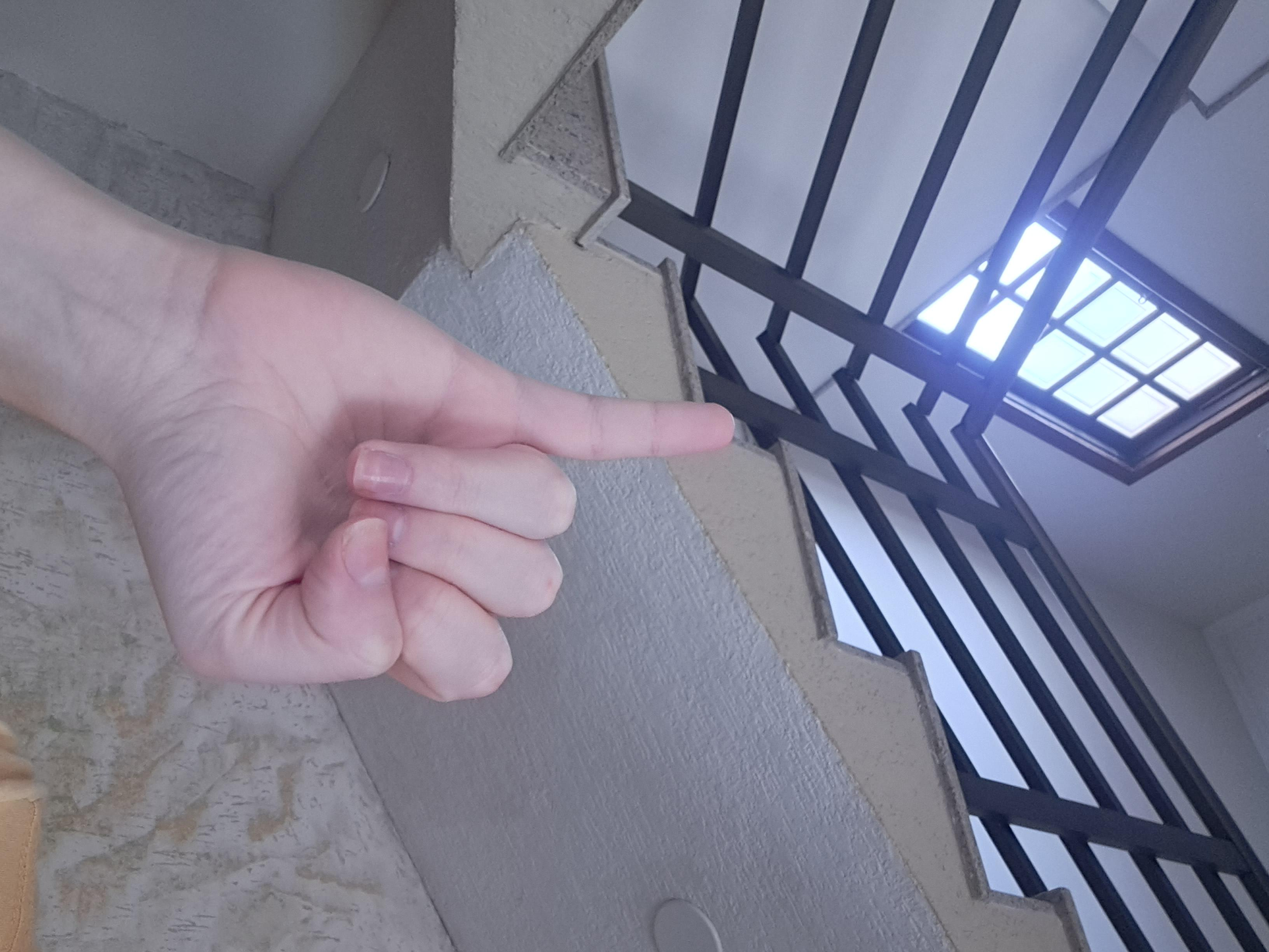I: (327, 382, 980, 884)
